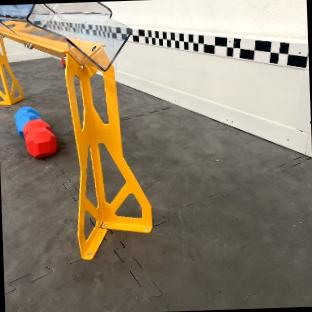Goal: (0, 2, 152, 259)
